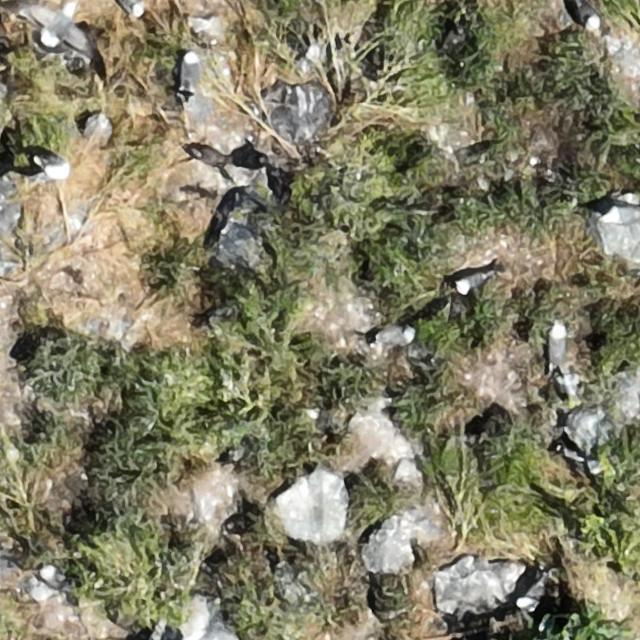F: (33, 2, 90, 52)
umineko: (517, 578, 543, 608), (376, 327, 414, 347), (549, 322, 566, 363), (577, 1, 600, 30), (182, 52, 200, 88), (40, 158, 72, 178), (40, 566, 67, 589), (457, 272, 488, 292), (606, 205, 638, 222), (116, 0, 144, 16)
